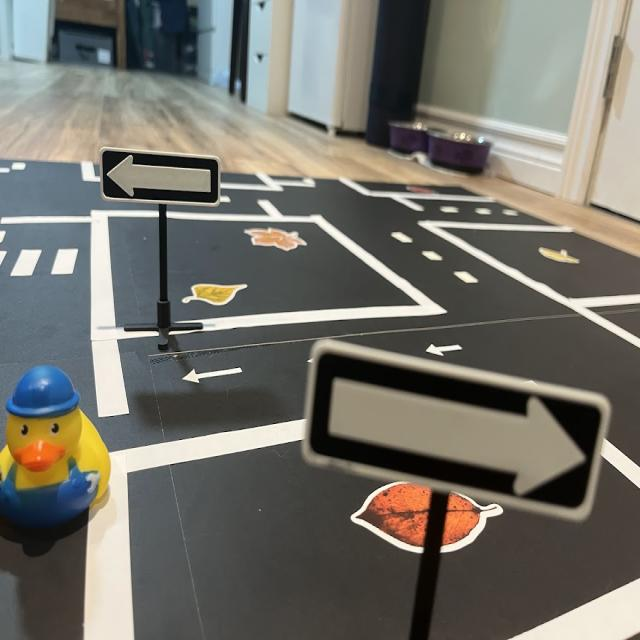duck_specialty: (1, 360, 116, 531)
road_crosswalk: (1, 239, 86, 283)
road_oneway: (180, 362, 251, 387), (422, 337, 469, 362)
sign_oneway_left: (100, 148, 226, 213)
sign_oneway_right: (298, 338, 616, 531)
